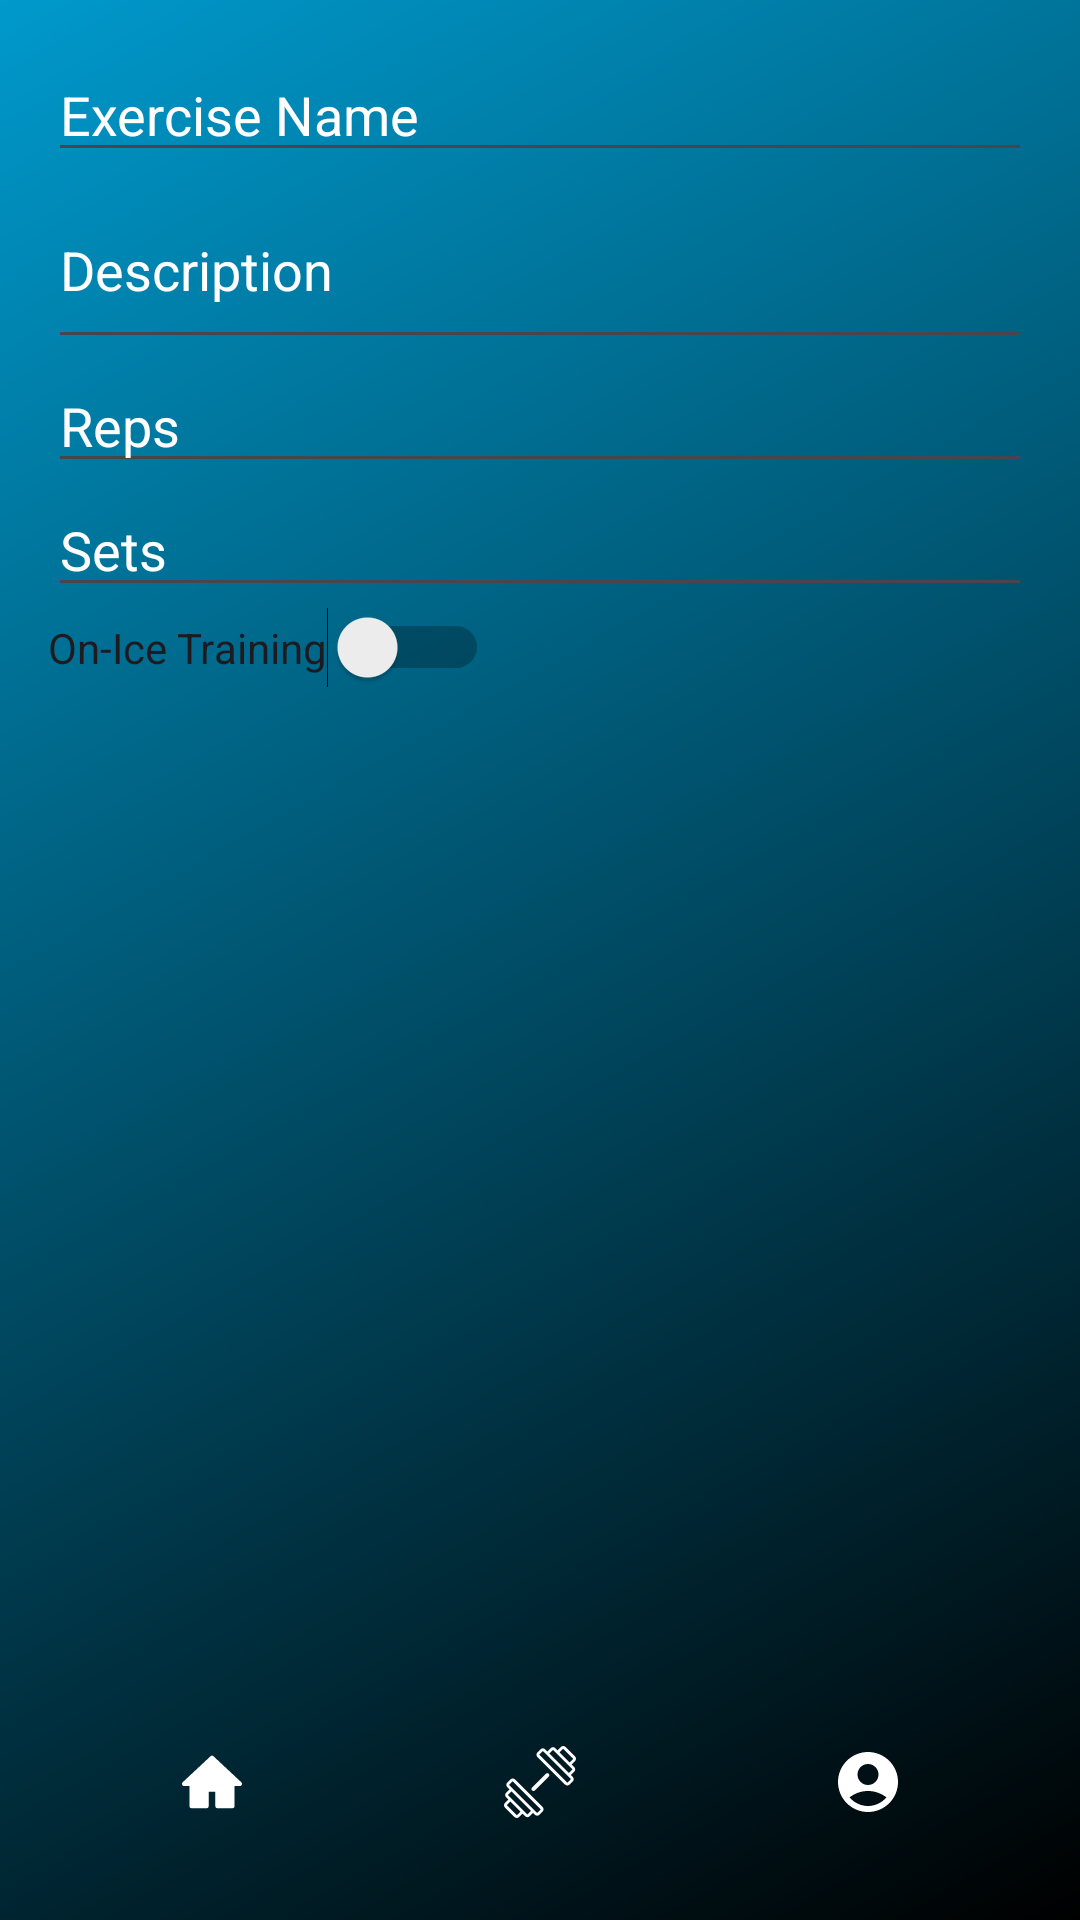

Screen size 1080px x 1920px. Icon name, then its center in pixels as [x,y]:
dumbbell: [540,1782]
house: [212,1782]
profilevector: [868,1782]
